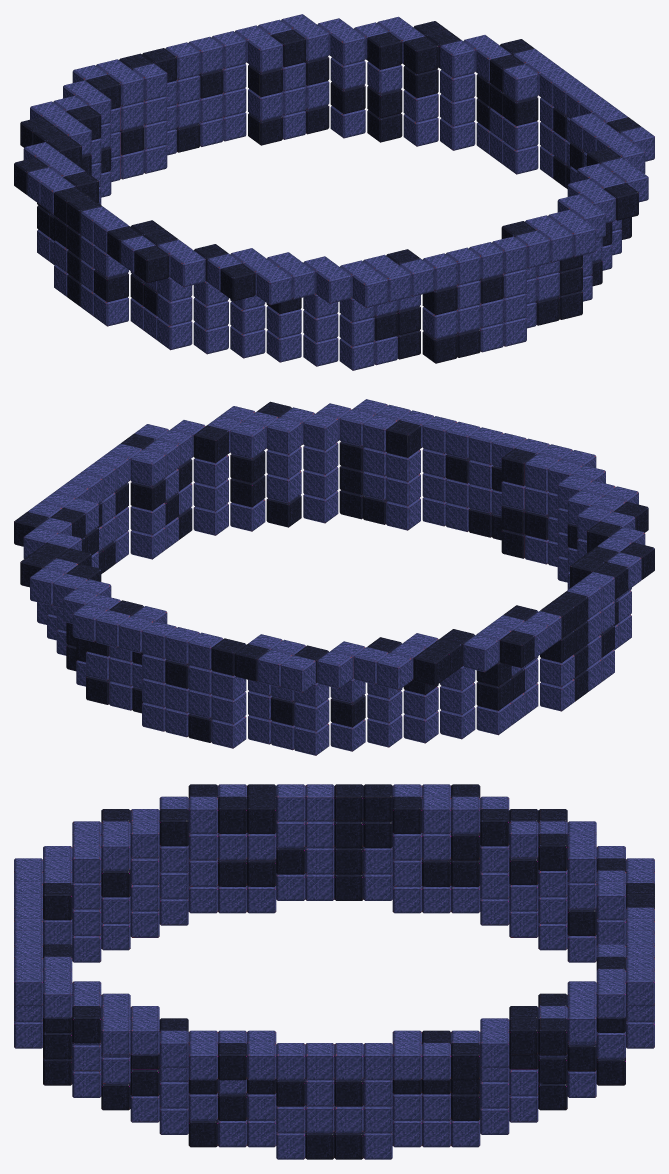
The model's file is env_hole_crystal.fbx.
3 views of the same model, one above another, from view 1: azimuth 30°, elevation 25°; view 2: azimuth 150°, elevation 25°; view 3: azimuth 270°, elevation 25° (orthographic). The views are drawn at different scales.
Parts seen in each view (by area): view 1: env_hole_crystal; view 2: env_hole_crystal, env_hole_crystal_1; view 3: env_hole_crystal, env_hole_crystal_1.
Part boxes in pixels (x1,y1,x2,y2): env_hole_crystal: [14, 14, 654, 370]; env_hole_crystal: [14, 399, 654, 755]; env_hole_crystal_1: [98, 531, 128, 573]; env_hole_crystal: [14, 784, 654, 1159]; env_hole_crystal_1: [276, 1132, 363, 1159].
Bounding box in the file's own units: 88 × 16 × 88.
1 material, 1 textured.
